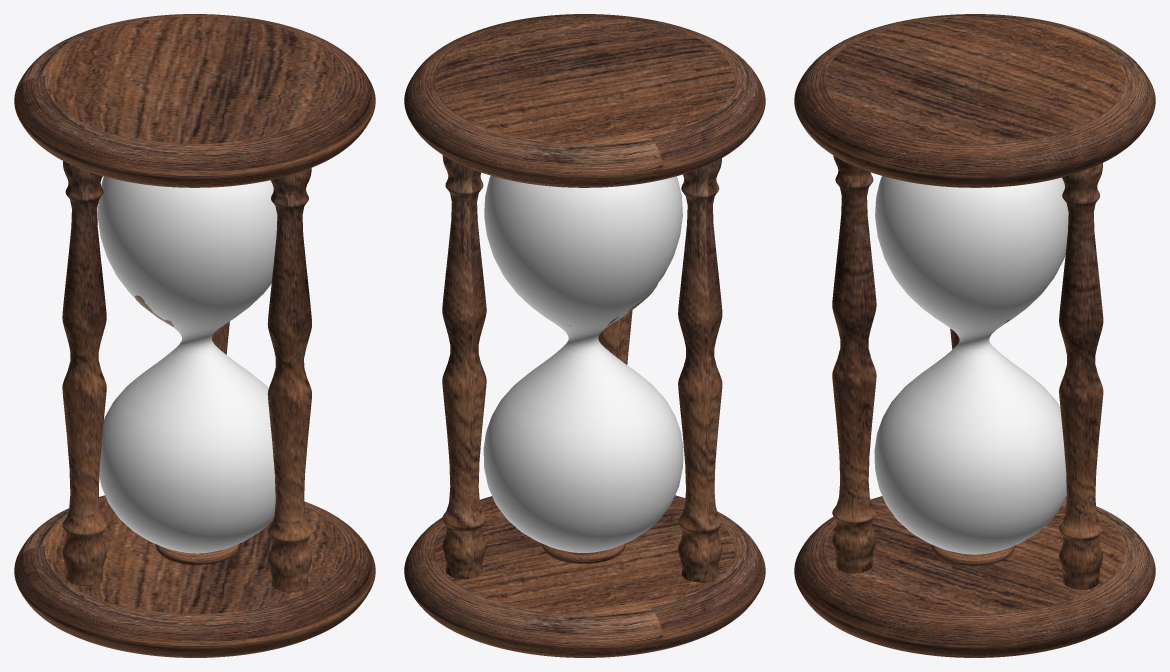
The model's file is hourglass.glb.
The picture shows the model from 3 angles, left to right: view 1: azimuth 30°, elevation 25°; view 2: azimuth 150°, elevation 25°; view 3: azimuth 270°, elevation 25°; orthographic projection.
Parts seen in each view (by area): view 1: Cylinder.001_0, Cylinder_1; view 2: Cylinder.001_0, Cylinder_1; view 3: Cylinder.001_0, Cylinder_1.
Boxes of the visible parts, bbox=[...] form: Cylinder.001_0: bbox=[14, 14, 375, 657]; Cylinder_1: bbox=[97, 176, 277, 553]; Cylinder.001_0: bbox=[404, 14, 765, 657]; Cylinder_1: bbox=[483, 175, 683, 552]; Cylinder.001_0: bbox=[794, 14, 1155, 657]; Cylinder_1: bbox=[874, 176, 1068, 554].
Bounding box in the file's own units: 4.22 × 6.66 × 4.22.
Materials: 3 (2 with a texture image).
